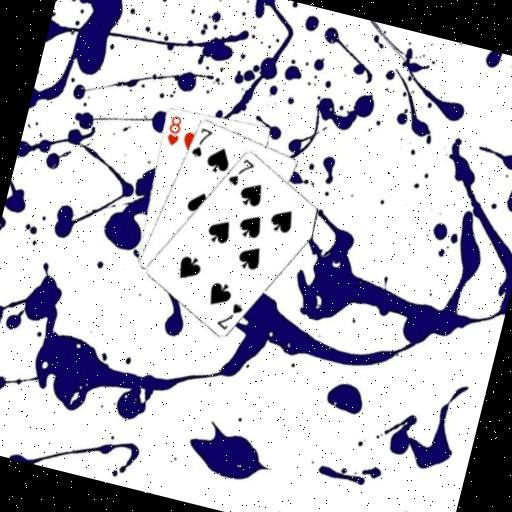7S: (224, 152, 258, 191), (213, 297, 247, 335), (187, 123, 215, 161)
8H: (162, 111, 186, 149)
